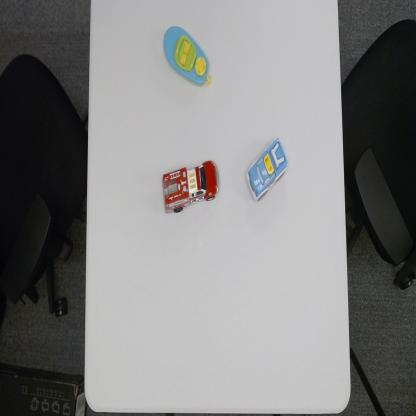Boat: (162, 24, 213, 88)
Car: (245, 135, 289, 203)
Firetruck: (160, 159, 220, 215)
